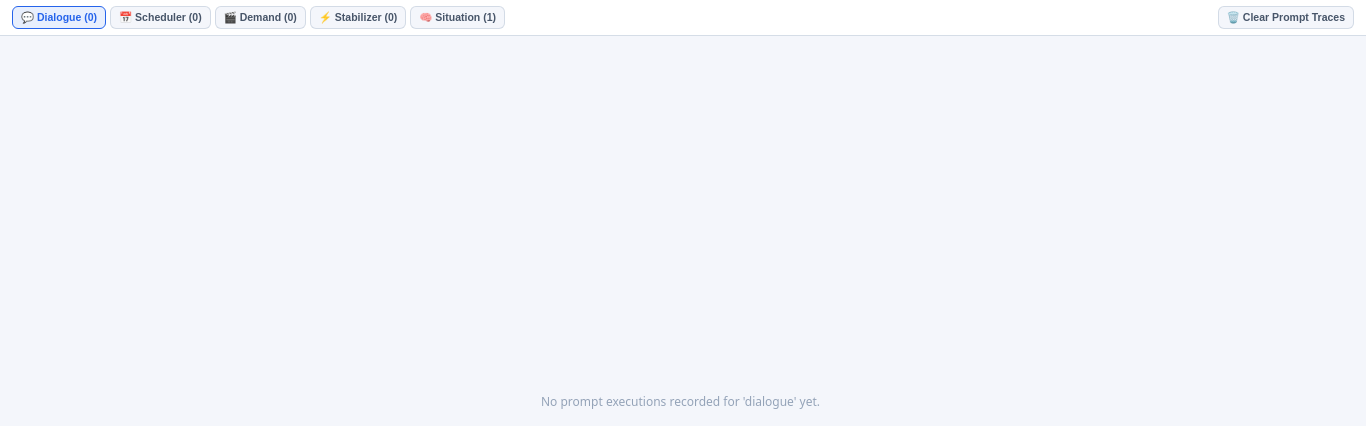
it: DevToolsPromptsTab — thinking token badge (Phase 5.2) › hides the badge when no thinking tokens were reported
Step 1. Click the button "🧠 Situation (1)" → (458, 18), box x1=410 y1=6 x2=505 y2=29
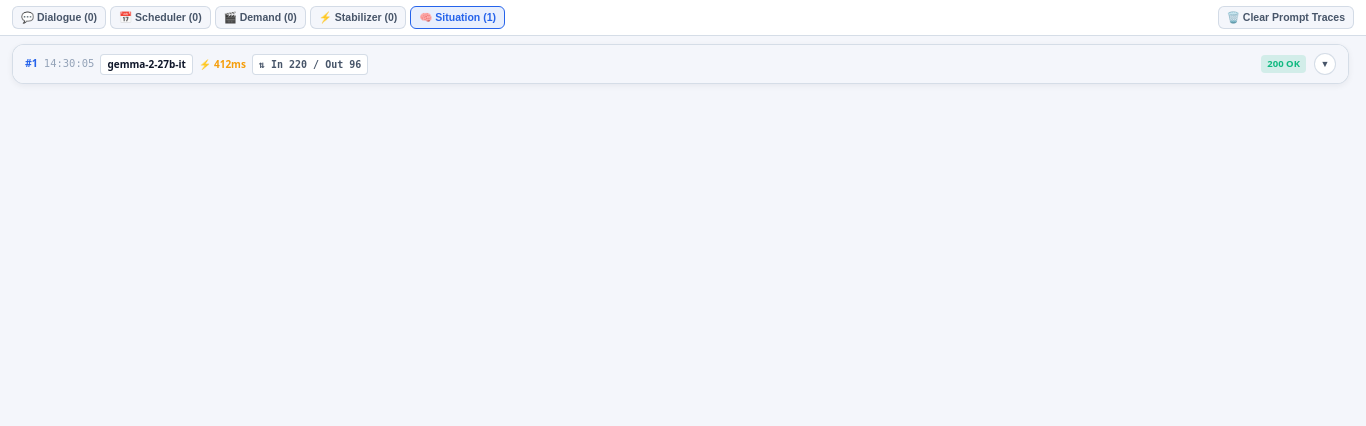
Check: the text "⇅ In 220 / Out 96" is shown, box x1=252 y1=54 x2=368 y2=74
